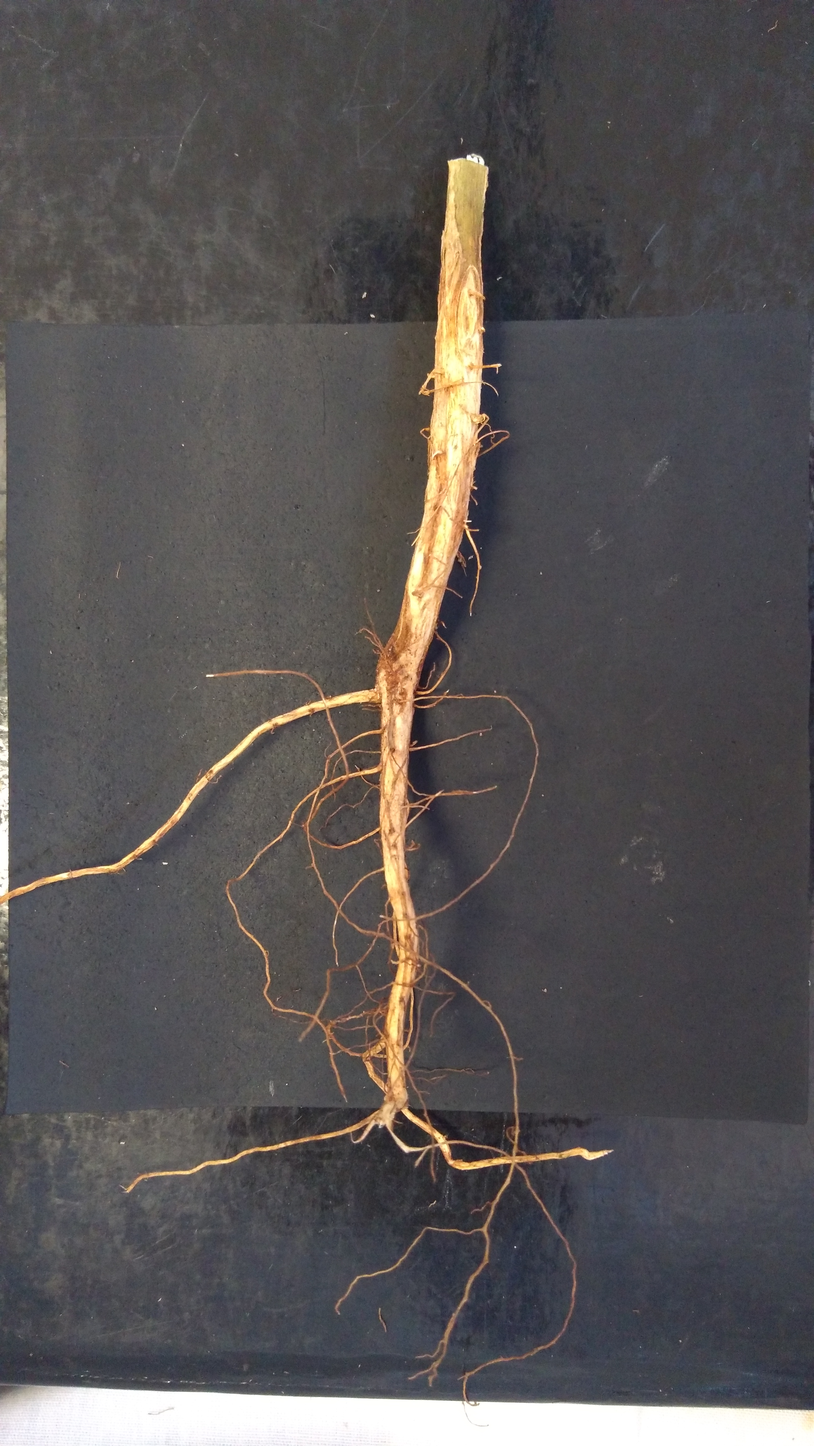nodule: (383, 1086, 408, 1114), (469, 412, 483, 423), (481, 327, 485, 333)
